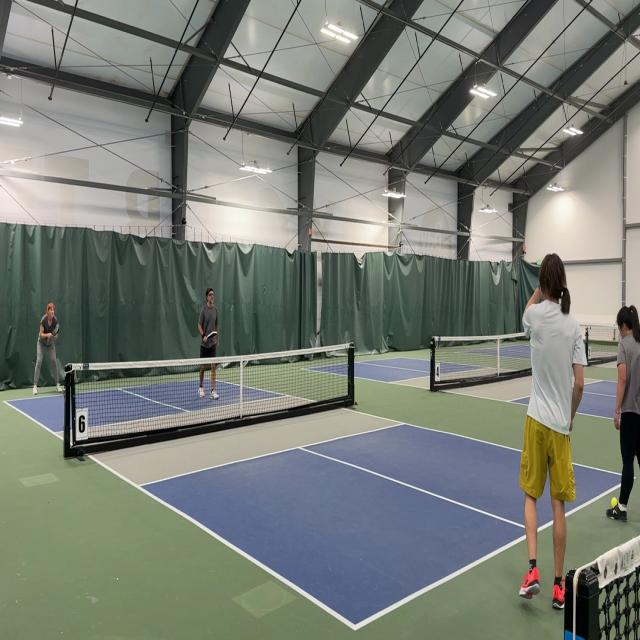ball: (610, 496, 618, 510)
